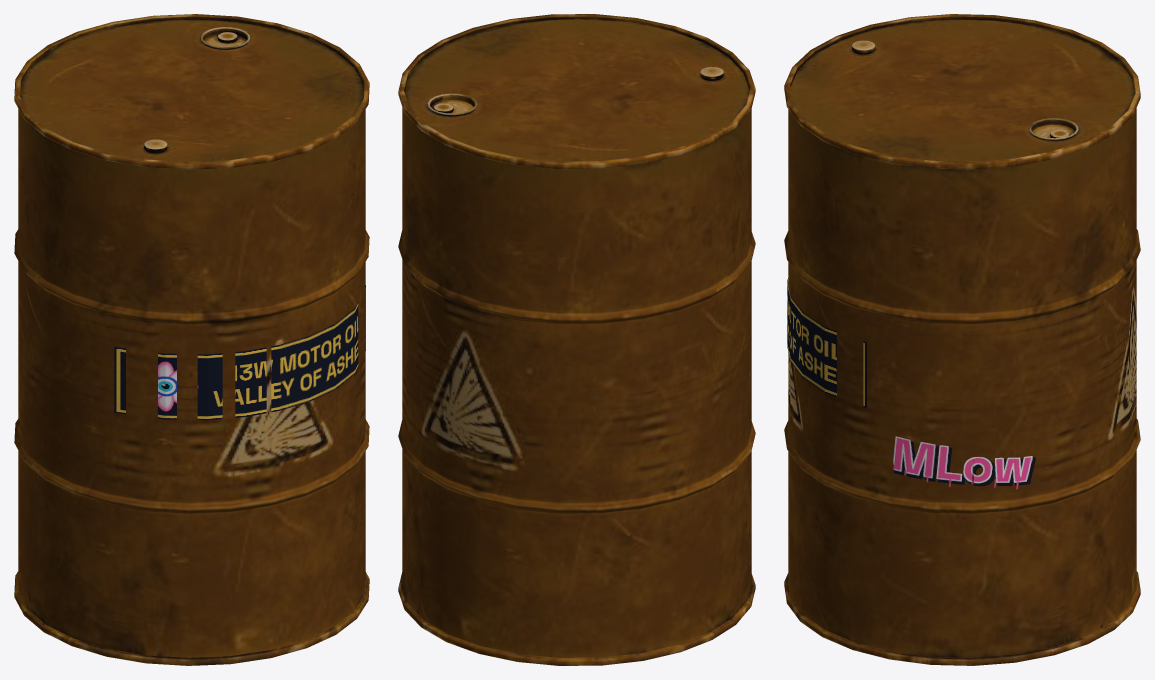
File: nyb_gatsby_drum.glb
3 renders of one model, left to right at view 1: azimuth 30°, elevation 25°; view 2: azimuth 150°, elevation 25°; view 3: azimuth 270°, elevation 25°, orthographic.
Parts seen in each view (by area): view 1: Barrel_01, stk_lbl_db30b5b983.png; view 2: Barrel_01; view 3: Barrel_01, stk_tag_mlow.png, stk_lbl_db30b5b983.png.
Boxes of the visible parts, x1,y1,x2,y2 form: Barrel_01: (14,14,369,665); stk_lbl_db30b5b983.png: (114,285,365,420); Barrel_01: (398,14,755,665); Barrel_01: (784,14,1140,665); stk_tag_mlow.png: (893,436,1035,489); stk_lbl_db30b5b983.png: (787,278,866,408).
Bounding box in the file's own units: 0.563 × 0.88 × 0.563.
3 materials, 3 textured.
